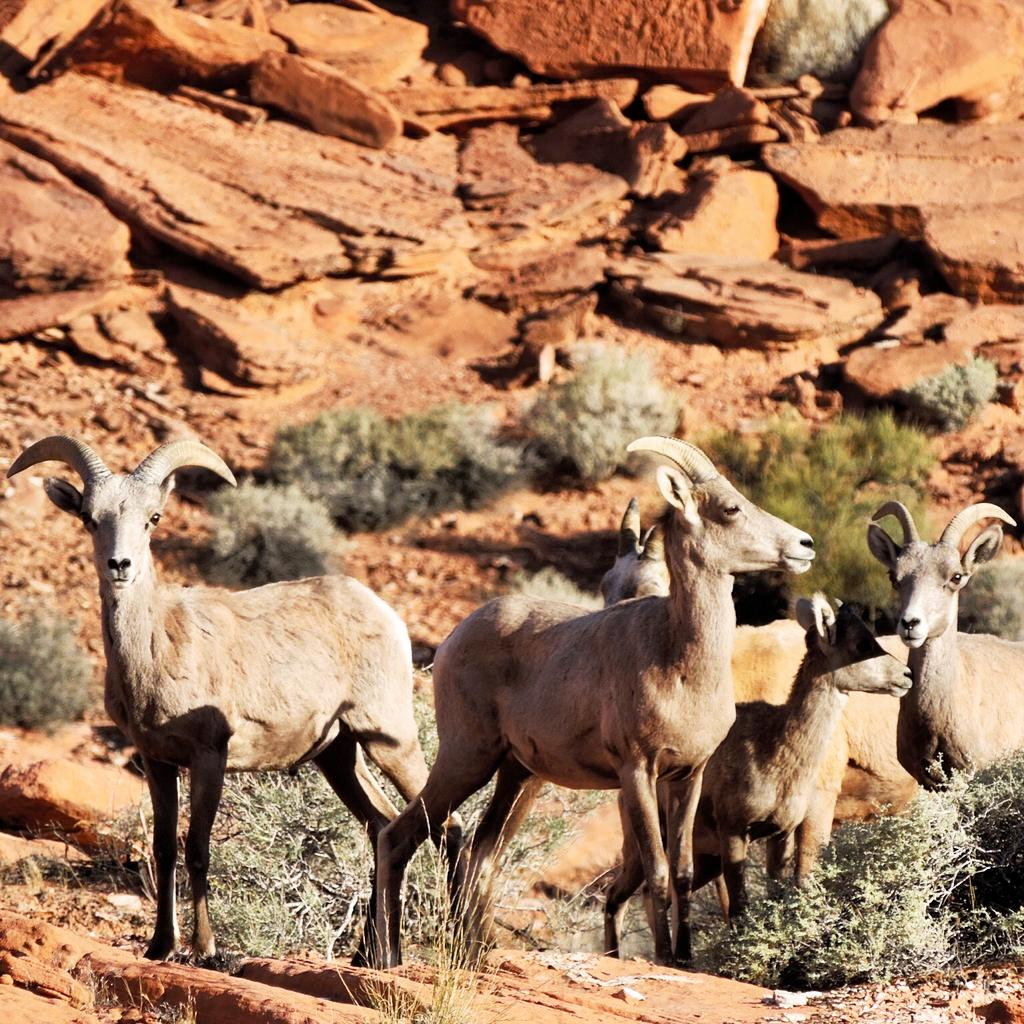Sheep: (2, 432, 470, 976), (368, 427, 817, 970), (599, 595, 913, 959), (865, 503, 1022, 793)
